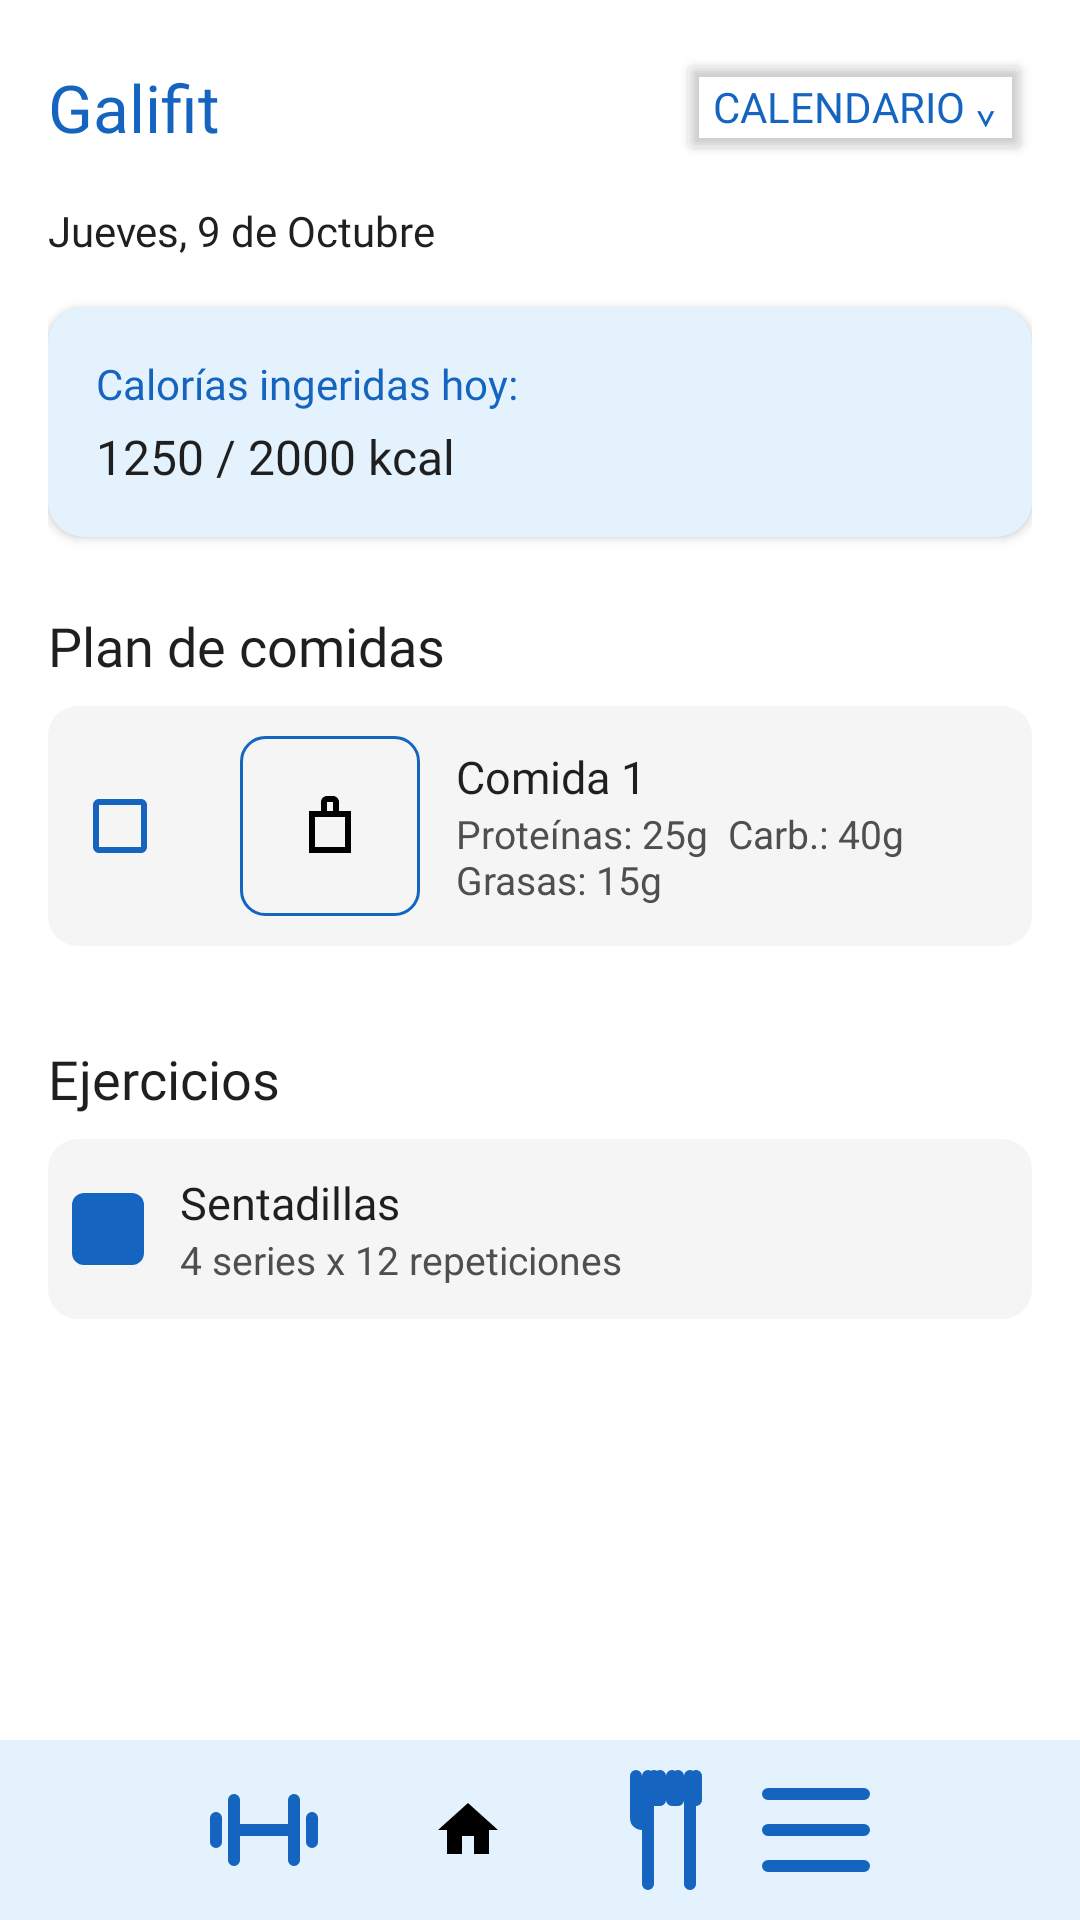

Icons on this 1080*1920 Android screen, each with the point to tap as [x,y]:
Comidas: [666,1830]
Ejercicios: [264,1830]
Inicio: [468,1828]
Menú: [816,1830]
